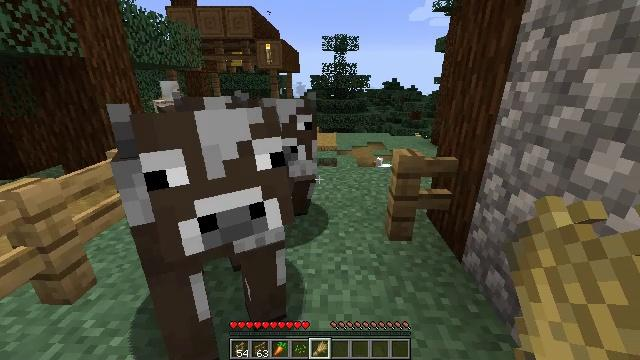chicken: (373, 158, 392, 168)
cow: (114, 105, 295, 360), (245, 91, 316, 223)
